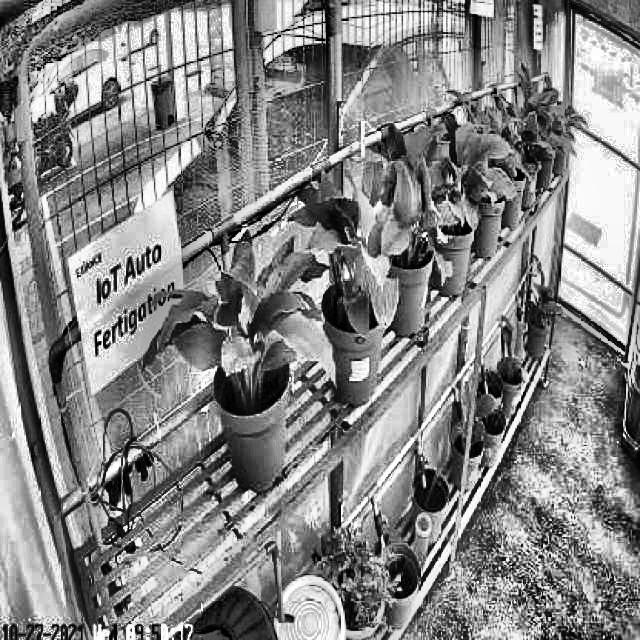plants: (143, 225, 334, 402), (297, 166, 400, 352), (374, 127, 452, 286), (420, 118, 514, 232)
